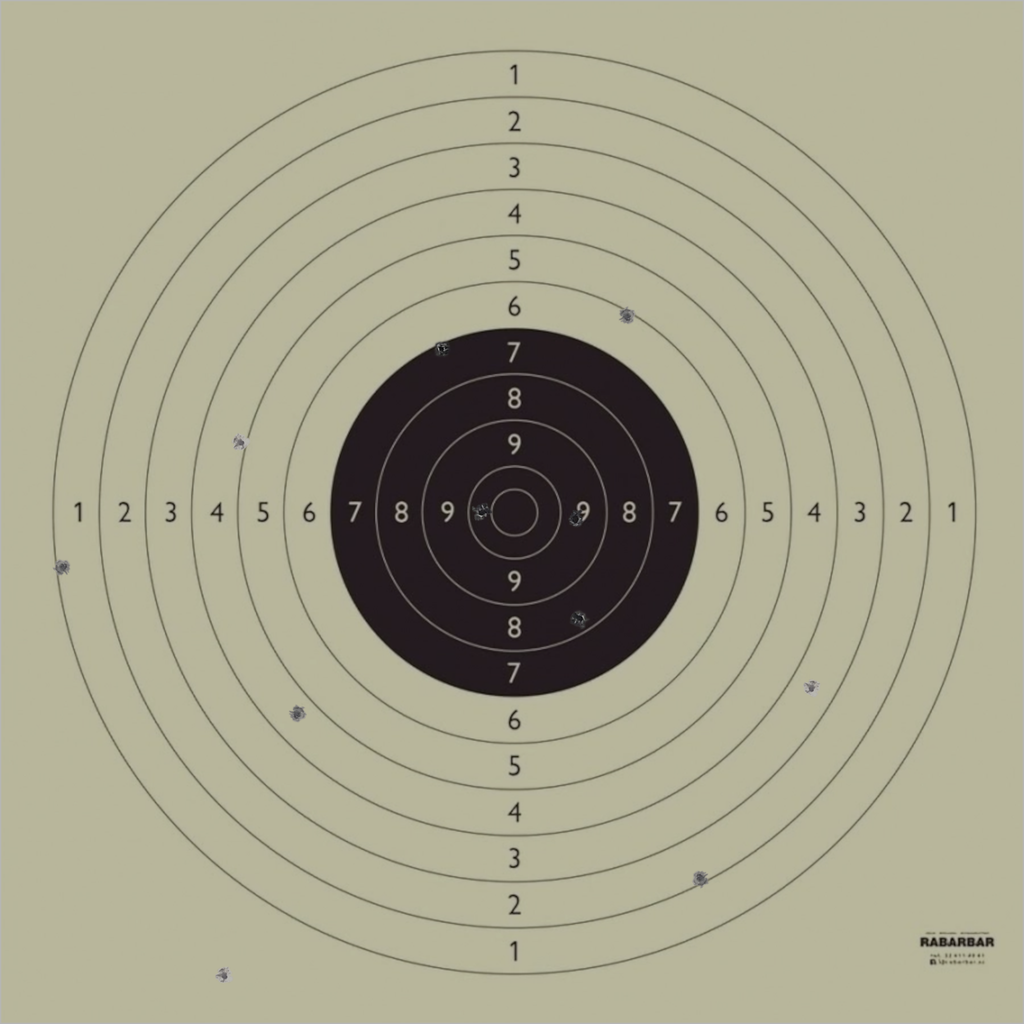0 punktow: (215, 967, 233, 985)
1 punkt: (54, 558, 72, 576)
10 punktow: (473, 503, 491, 521)
2 punkty: (691, 869, 709, 887)
3 punkty: (802, 679, 821, 697)
4 punkty: (288, 705, 307, 724)
5 punktow: (231, 434, 250, 452)
6 punktow: (618, 307, 636, 326)
7 punktow: (432, 339, 451, 358)
8 punktow: (571, 610, 589, 628)
9 punktow: (566, 510, 585, 528)
